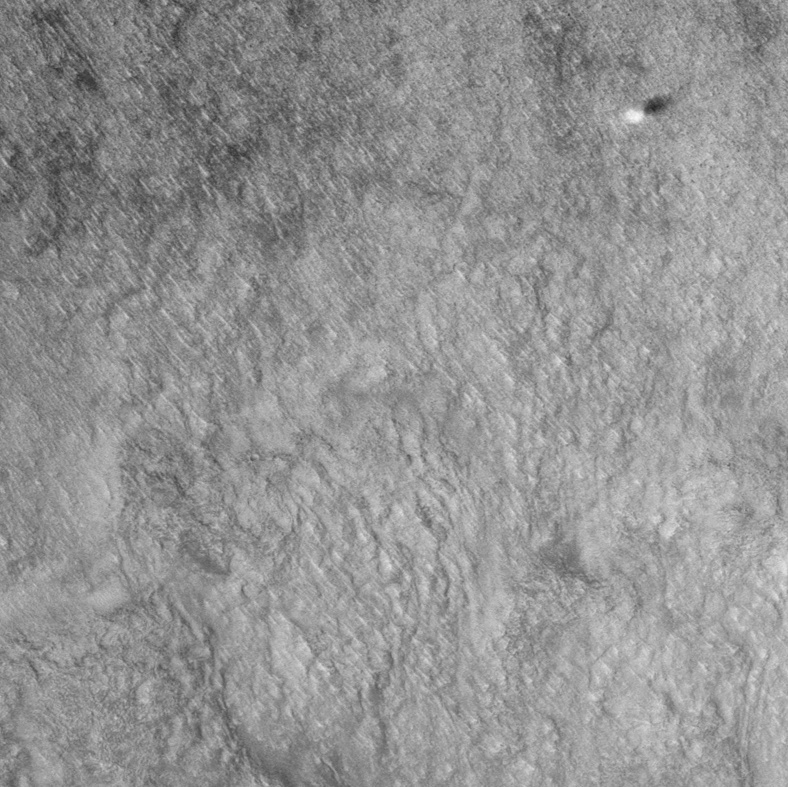dust_devil: (624, 91, 679, 126)
